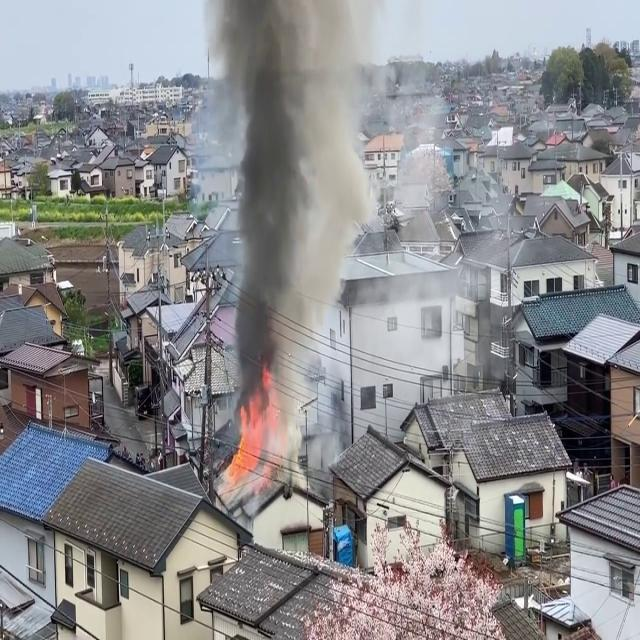Fire: (223, 386, 271, 486)
Smoke: (216, 0, 366, 465)
